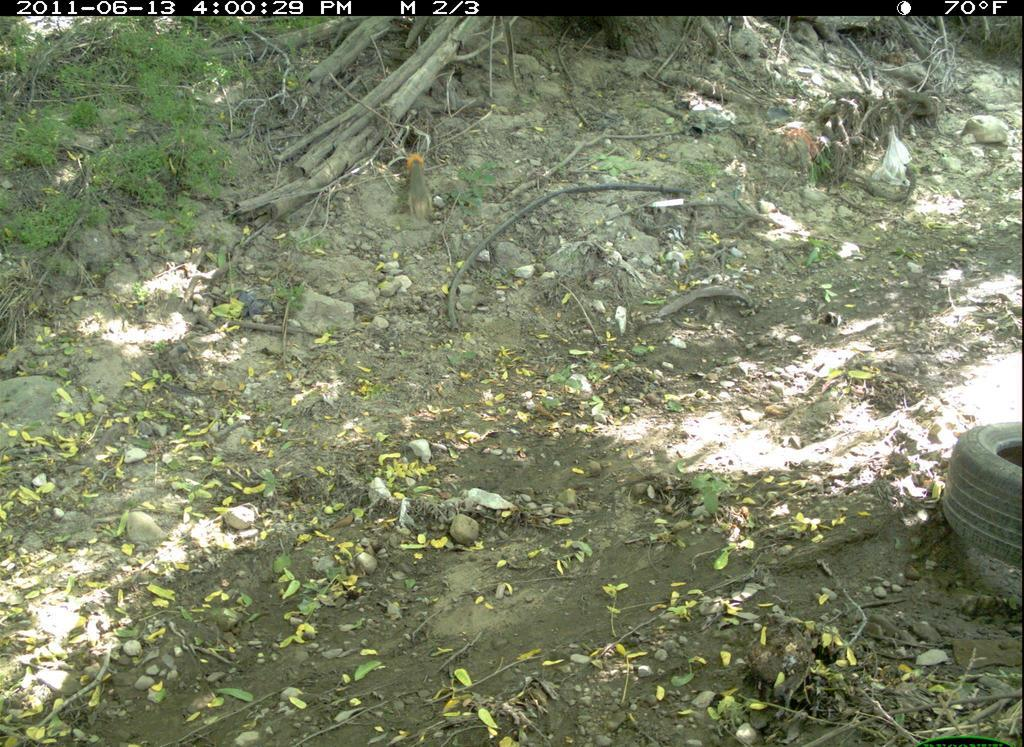squirrel: (397, 150, 438, 225)
